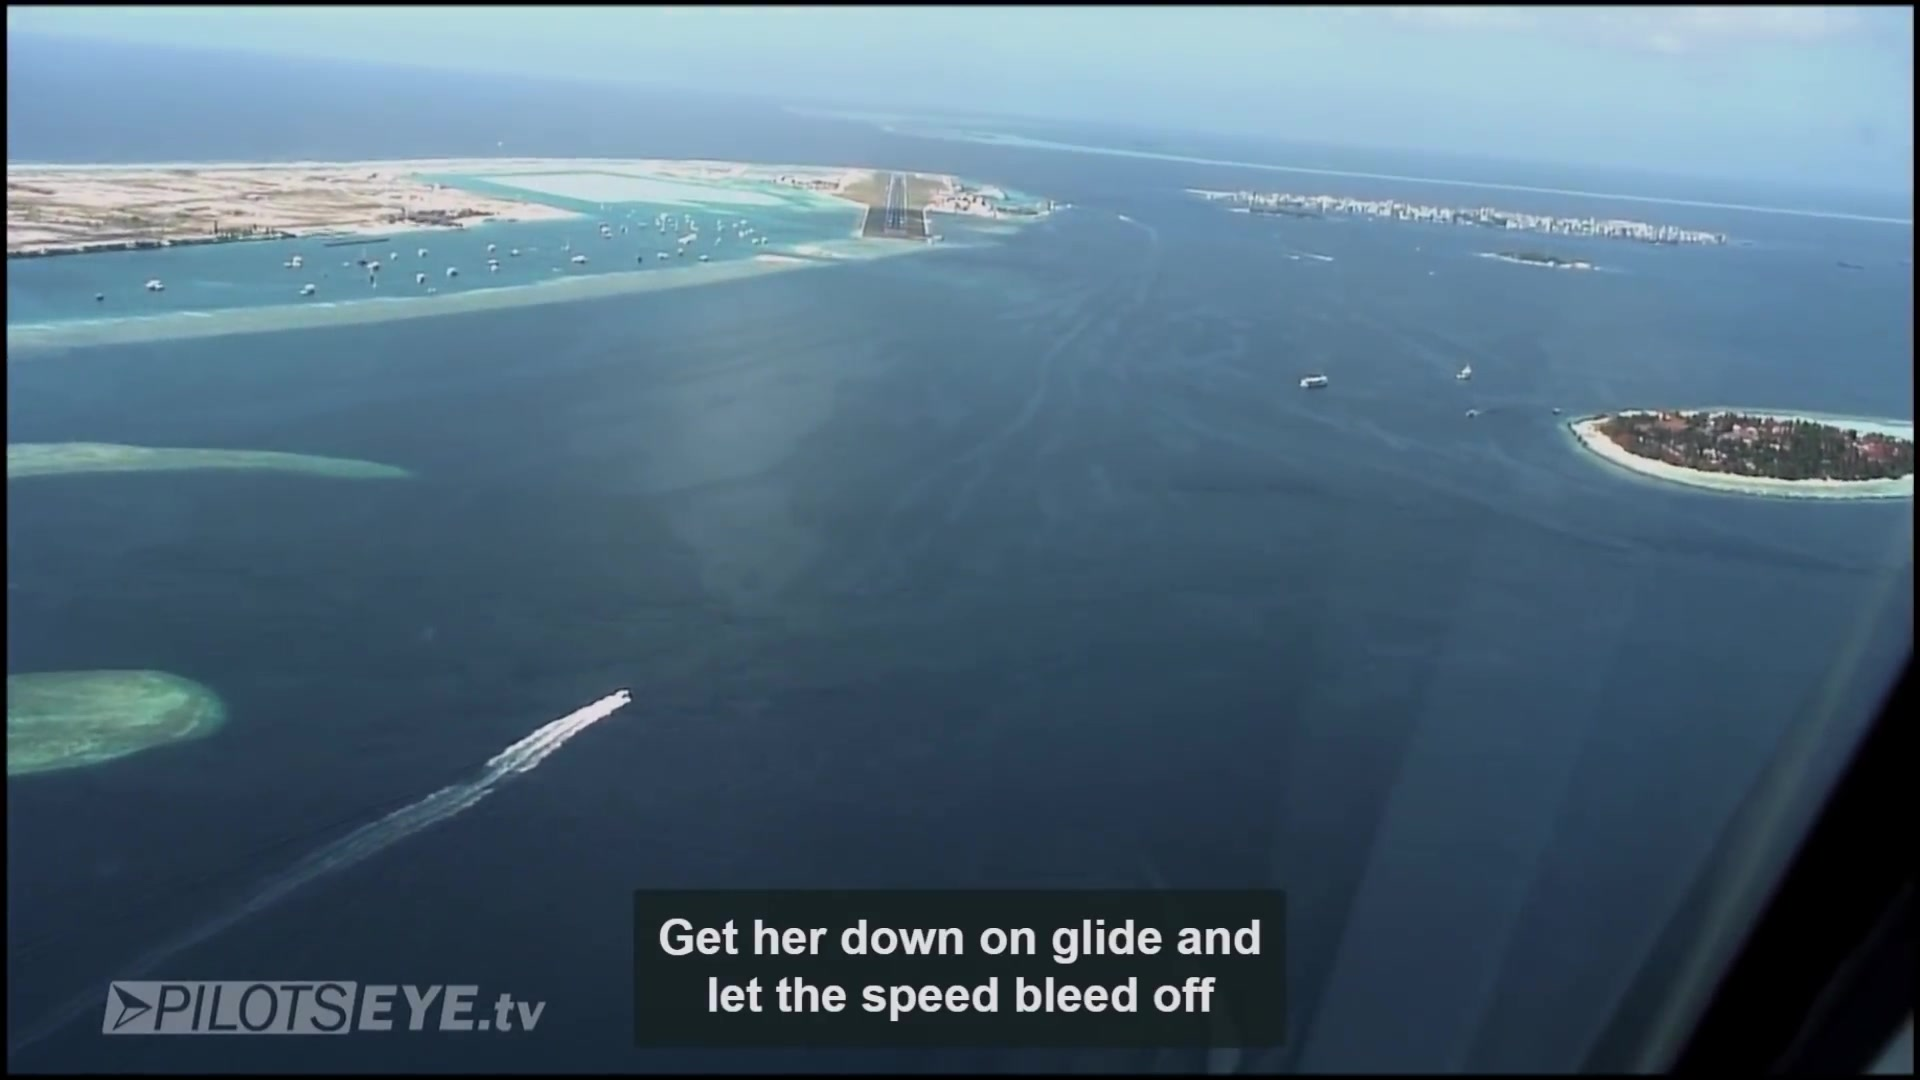runway: (881, 174, 910, 236)
